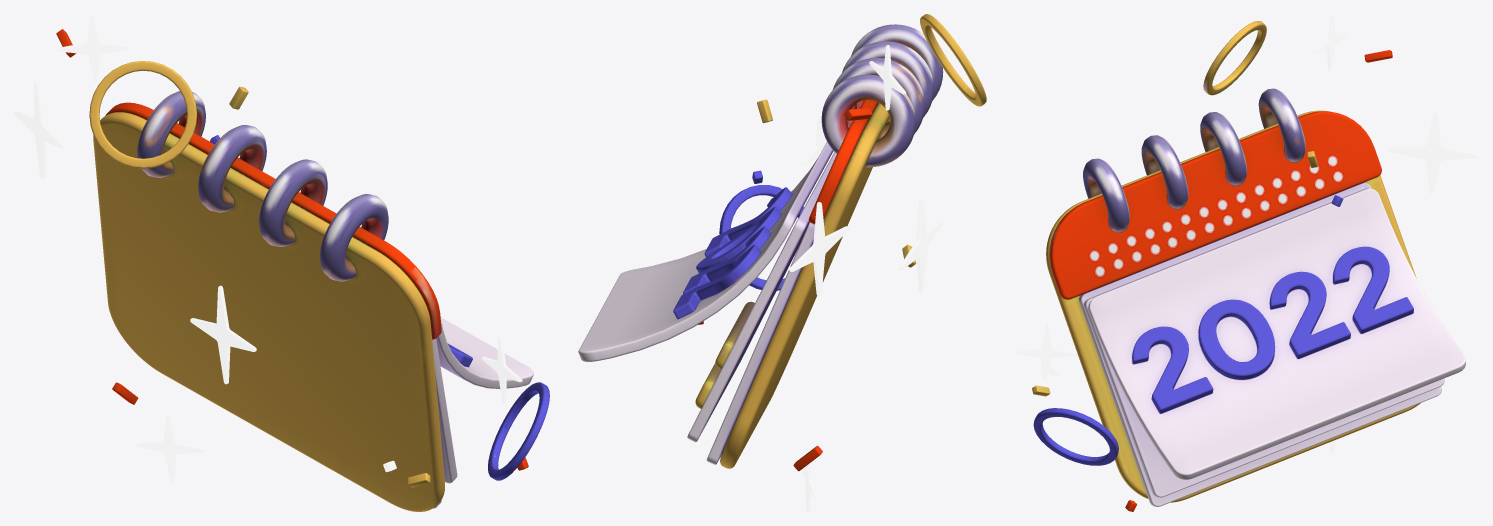
The model's file is calendar.glb.
3 views of the same model, side by side, from view 1: azimuth 30°, elevation 25°; view 2: azimuth 150°, elevation 25°; view 3: azimuth 270°, elevation 25° (orthographic). The views are drawn at different scales.
Visible parts, largest first — view 1: calendar; view 2: calendar; view 3: calendar.
Part boxes in pixels (left/top/right/bottom): calendar: left=14, top=14, right=549, bottom=511; calendar: left=578, top=14, right=986, bottom=511; calendar: left=1015, top=14, right=1478, bottom=511.
Bounding box in the file's own units: 0.7136 × 0.8266 × 0.8524.
3 materials, 2 textured.
